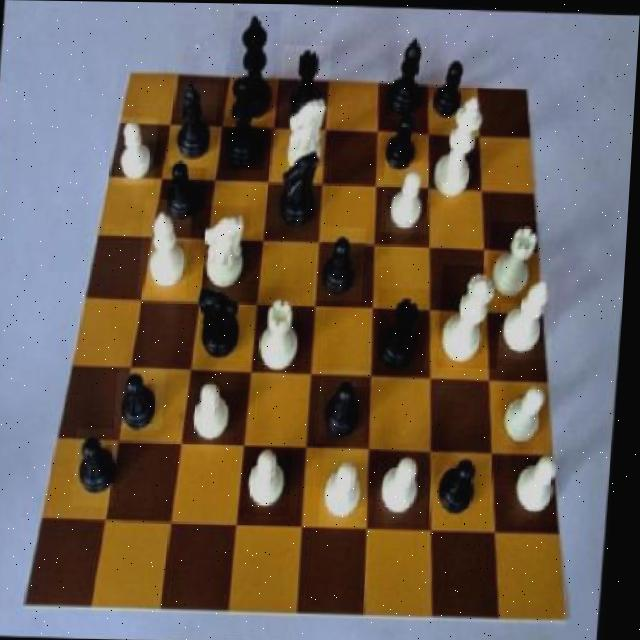bishop: (386, 32, 431, 125), (171, 82, 220, 167)
black-bishop: (226, 10, 281, 121)
black-king: (269, 147, 330, 243), (191, 281, 249, 369)
black-knight: (322, 368, 376, 445), (316, 225, 370, 301), (78, 428, 125, 507), (439, 452, 491, 521), (162, 156, 210, 229), (120, 369, 171, 431), (377, 112, 421, 177), (432, 56, 472, 123)
black-pawn: (220, 63, 272, 171)
black-queen: (378, 286, 433, 374), (280, 43, 334, 118)
black-rook: (498, 272, 560, 357), (142, 197, 195, 295)
white-bishop: (430, 85, 492, 201)
white-king: (200, 204, 254, 295), (278, 88, 332, 175)
white-knight: (380, 448, 437, 528), (191, 373, 244, 451), (325, 441, 373, 526), (499, 377, 555, 448), (245, 445, 301, 516), (383, 160, 434, 234), (519, 448, 567, 521), (115, 117, 159, 186)
white-pawn: (440, 264, 508, 368)
white-queen: (489, 218, 545, 301), (258, 286, 310, 372)
